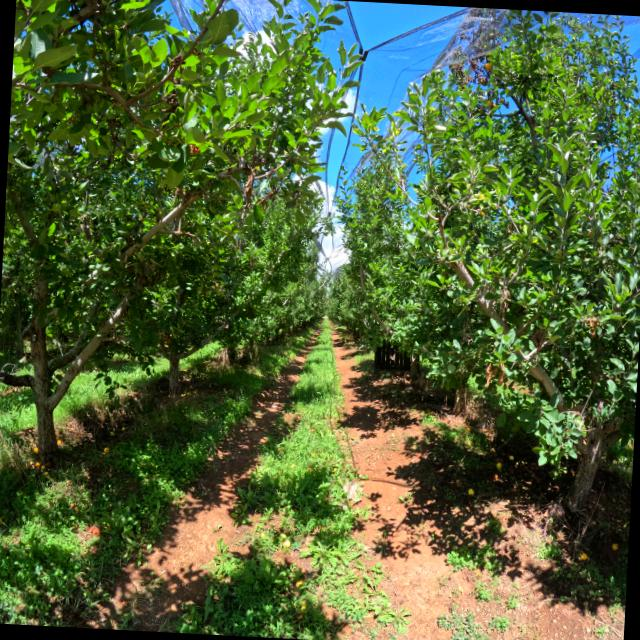-FireBlight-: (485, 362, 506, 389)
